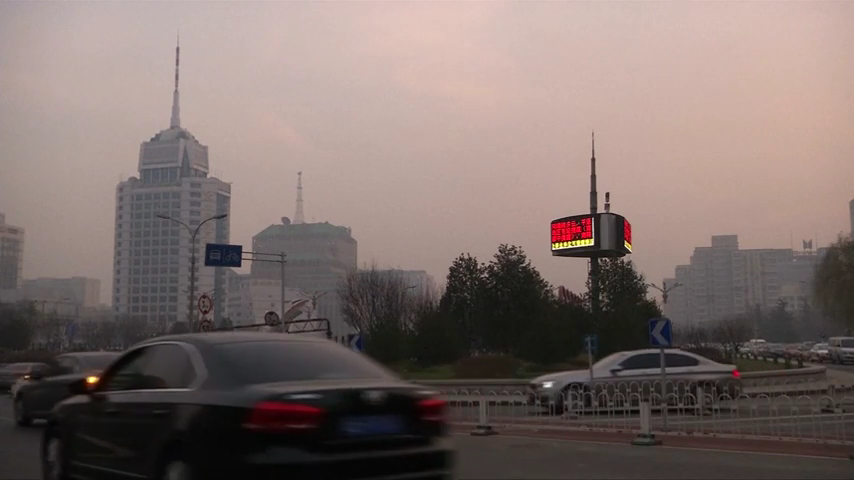car: (34, 328, 466, 479), (525, 347, 743, 417), (9, 351, 161, 424), (2, 361, 53, 393), (829, 335, 854, 364), (808, 340, 838, 361), (786, 341, 812, 362), (761, 342, 788, 359), (748, 339, 769, 359)
